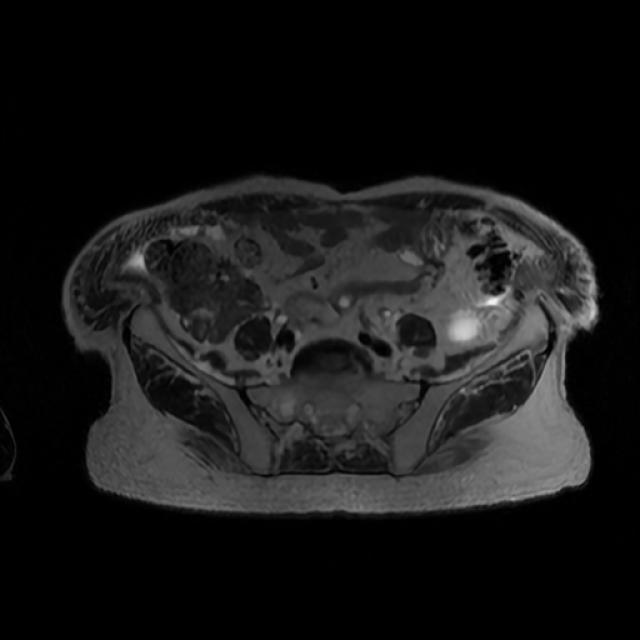sol: (445, 315, 482, 343)
